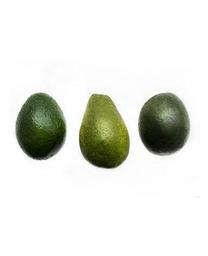avocado: (78, 94, 130, 169), (15, 93, 67, 161), (138, 93, 191, 156)
